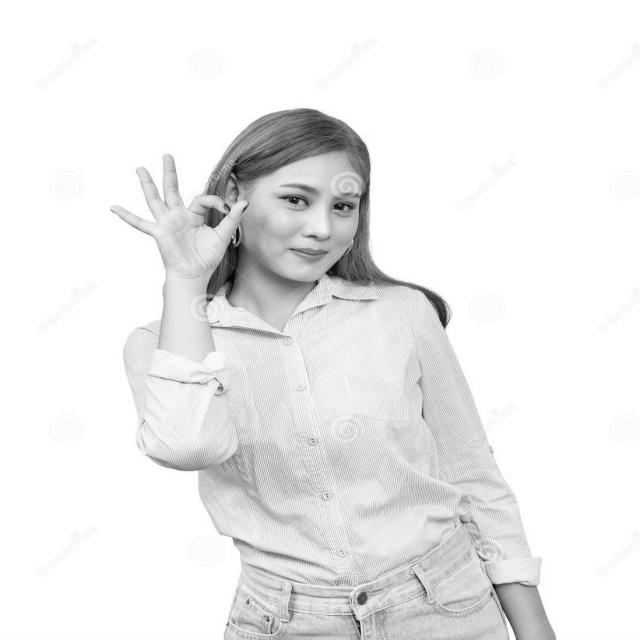perfect: (103, 147, 252, 292)
